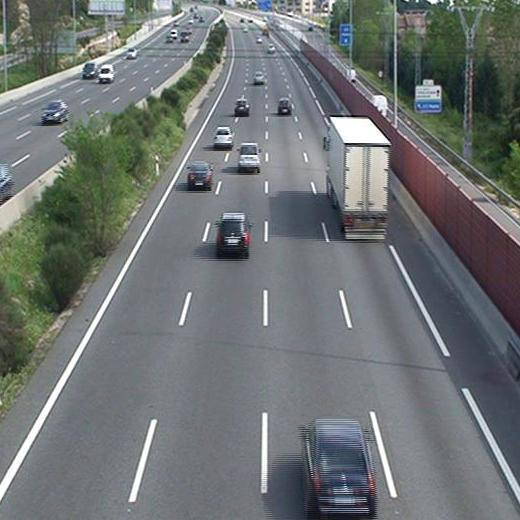car: (300, 421, 377, 520), (214, 214, 251, 254), (237, 142, 262, 171), (187, 162, 212, 189), (213, 127, 235, 146), (276, 98, 293, 115), (233, 98, 251, 114), (253, 71, 264, 84)
truck: (323, 116, 392, 243)
